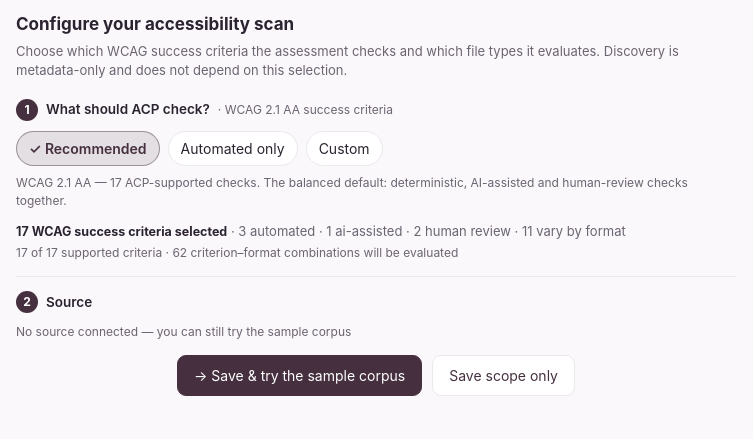
a scan never runs on a scope that did not persist › does not start the scan when the save fails
Click the button "→ Save & try the sample corpus" at (300, 376), box [177,355,422,396]
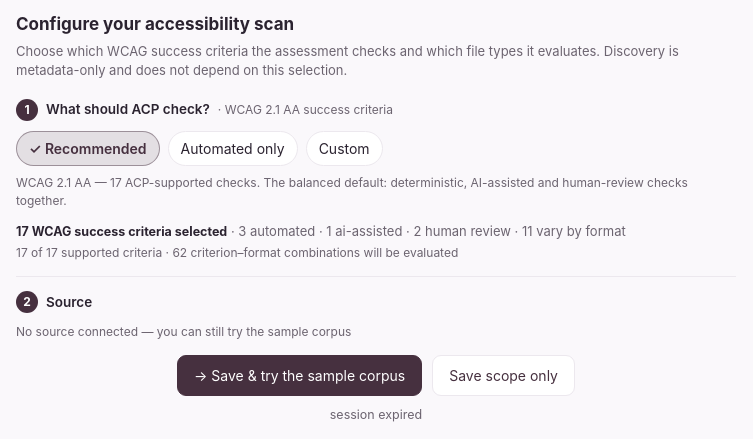
Check: the message with class "setupmsg" reads "session expired", box [330,407,422,422]
